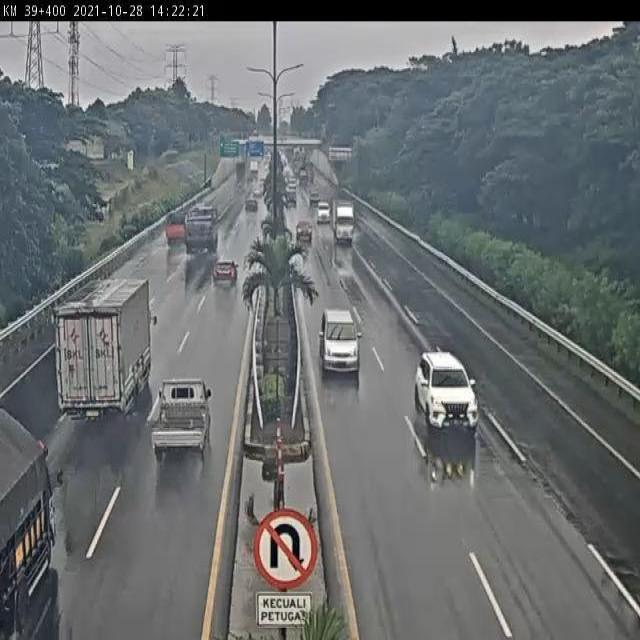car: (416, 353, 482, 431), (153, 380, 210, 459), (319, 309, 362, 376), (212, 258, 239, 286), (294, 218, 315, 242)
truck-l-: (52, 275, 154, 424), (183, 204, 221, 260)
truck-m-: (331, 194, 357, 247)
truck-s-: (165, 210, 196, 250)
